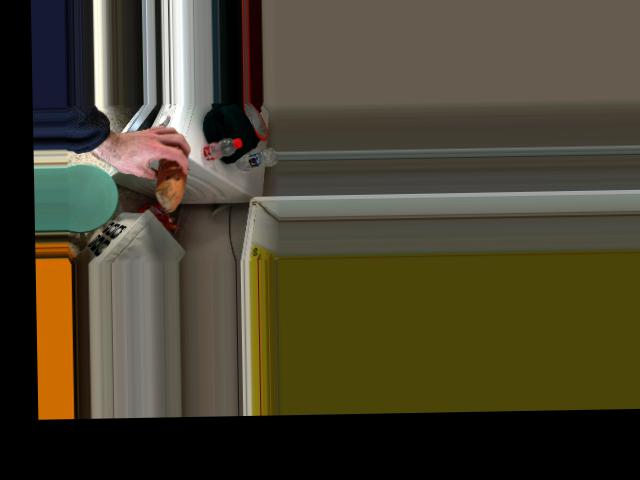sweet_potato: (148, 148, 184, 196)
